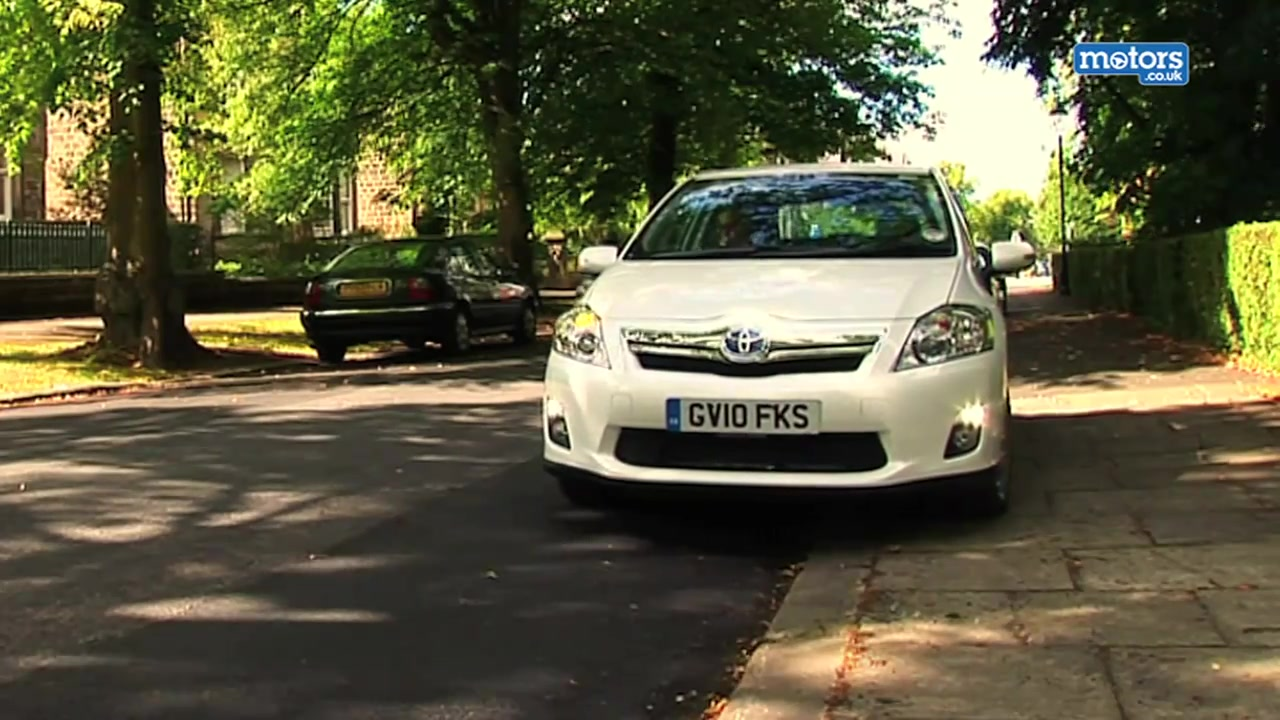car: (545, 158, 1035, 528), (294, 237, 545, 356)
